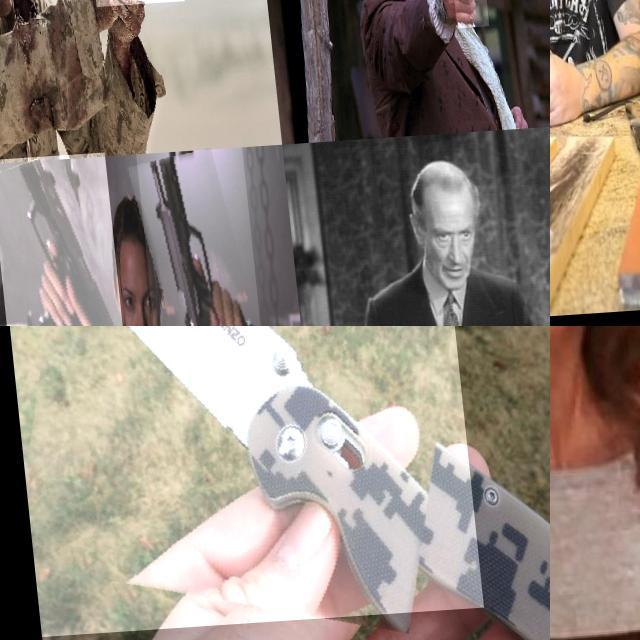-: (0, 326, 473, 636), (550, 326, 640, 640)
gun-knife-thesis - v11 Yolov5 augmented: (129, 151, 256, 326), (0, 154, 117, 326), (83, 0, 180, 62), (445, 0, 484, 45)
